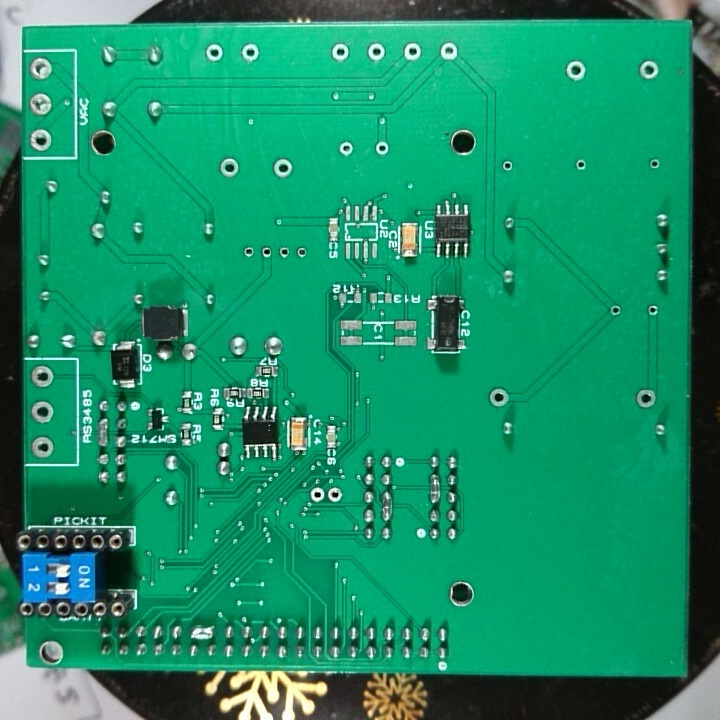F: (30, 399, 57, 428), (562, 58, 589, 86), (26, 91, 54, 118), (29, 363, 55, 391), (28, 435, 57, 460), (28, 126, 54, 153), (27, 55, 54, 81), (635, 58, 662, 83), (270, 157, 296, 181), (633, 388, 658, 412), (216, 155, 240, 179), (202, 40, 225, 65), (239, 41, 262, 66), (437, 39, 460, 64), (488, 385, 511, 409), (328, 41, 352, 64), (365, 40, 386, 65), (401, 40, 423, 63), (498, 156, 517, 176), (238, 243, 258, 262), (372, 139, 391, 158), (337, 139, 356, 158), (308, 485, 326, 504), (326, 485, 343, 505), (645, 301, 662, 320), (257, 244, 276, 261), (572, 155, 588, 175), (292, 245, 309, 261), (608, 303, 623, 320), (276, 244, 291, 260), (648, 155, 662, 172)
P: (187, 623, 218, 644), (379, 489, 396, 523), (94, 416, 109, 451), (428, 472, 443, 505)
